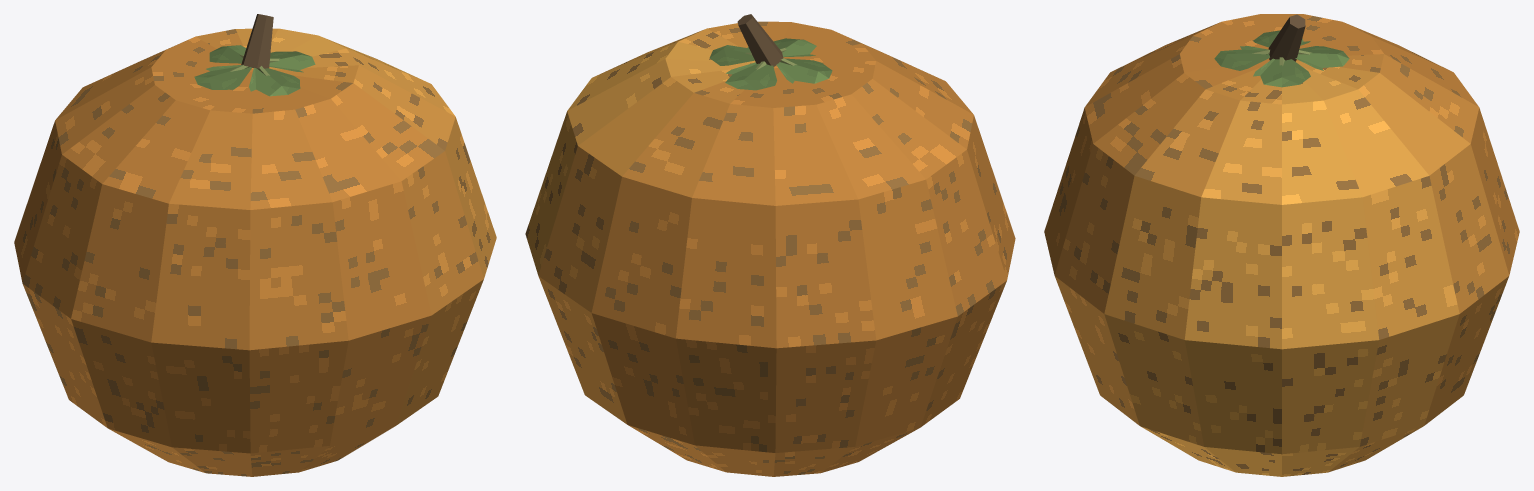
File: lulo.glb
3 views of the same model, side by side, from view 1: azimuth 30°, elevation 25°; view 2: azimuth 150°, elevation 25°; view 3: azimuth 270°, elevation 25° (orthographic). The views are drawn at different scales.
Visible parts, largest first — view 1: block_fuzzy orange lulo rind, block_woody stem, block_low olive calyx blade (×2); view 2: block_fuzzy orange lulo rind, block_low olive calyx blade (×3), block_woody stem; view 3: block_fuzzy orange lulo rind, block_low olive calyx blade (×2), block_woody stem.
Boxes of the visible parts, left/top/right/bottom form: block_fuzzy orange lulo rind: left=14, top=28, right=496, bottom=476; block_woody stem: left=241, top=14, right=273, bottom=68; block_low olive calyx blade (×2): left=208, top=67, right=281, bottom=96; block_fuzzy orange lulo rind: left=525, top=21, right=1015, bottom=476; block_low olive calyx blade (×3): left=710, top=48, right=817, bottom=90; block_woody stem: left=737, top=14, right=783, bottom=66; block_fuzzy orange lulo rind: left=1044, top=14, right=1519, bottom=476; block_low olive calyx blade (×2): left=1221, top=53, right=1342, bottom=70; block_woody stem: left=1268, top=14, right=1305, bottom=61.
Size of the model in its own units: 0.068 by 0.0629 by 0.0649.
Materials: 2 (2 with a texture image).
